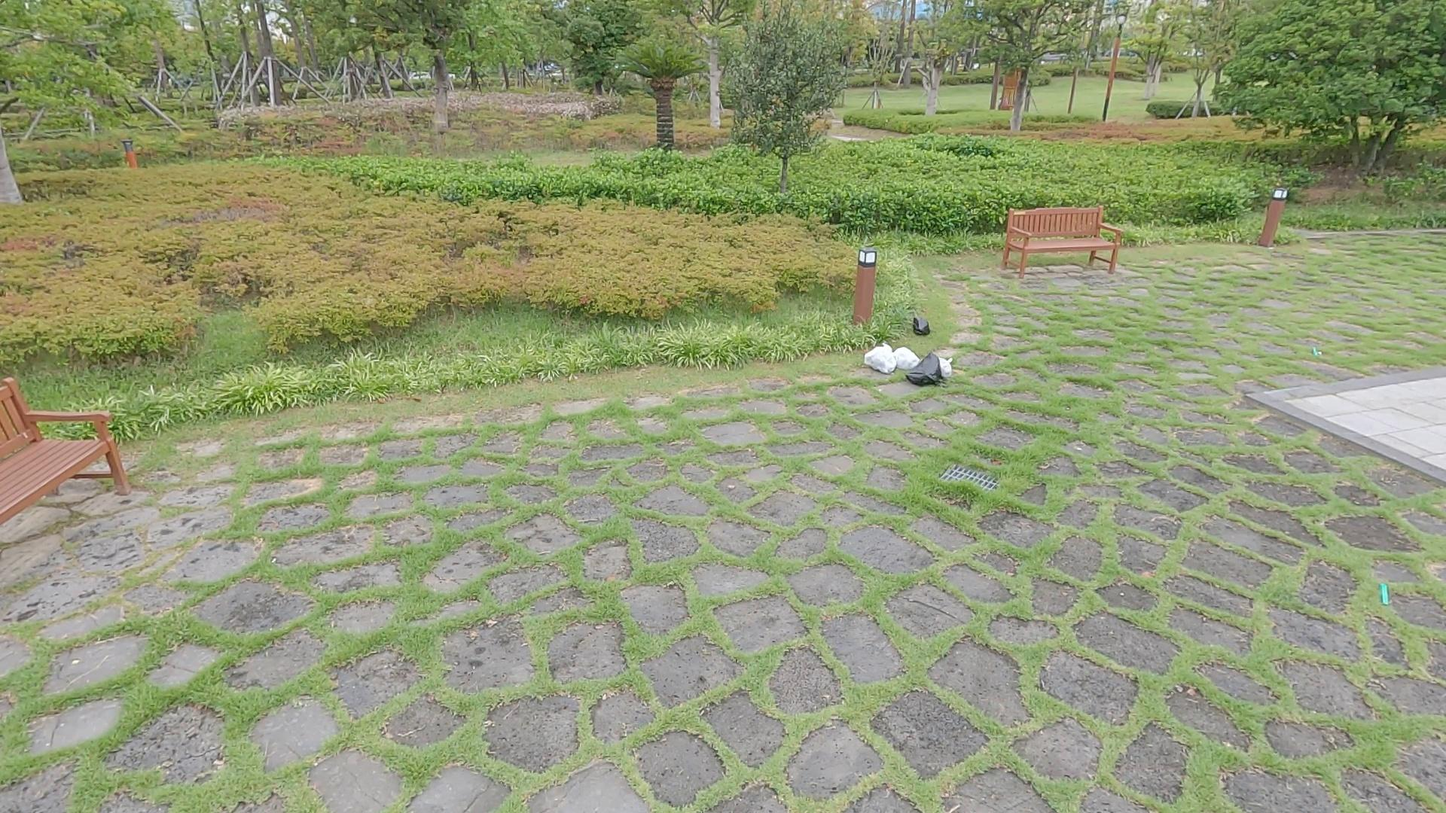trash: (863, 341, 897, 376), (906, 352, 942, 385), (888, 345, 922, 374), (934, 356, 957, 382), (912, 317, 932, 338)
